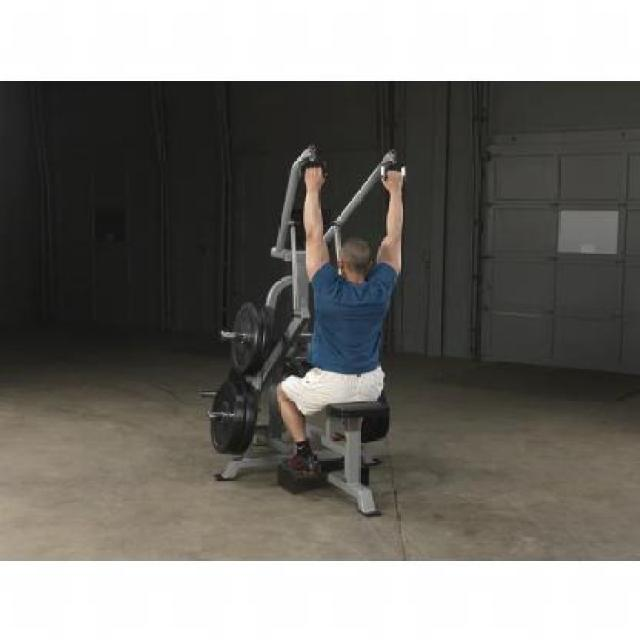Lat Pull Down: (195, 137, 432, 525)
